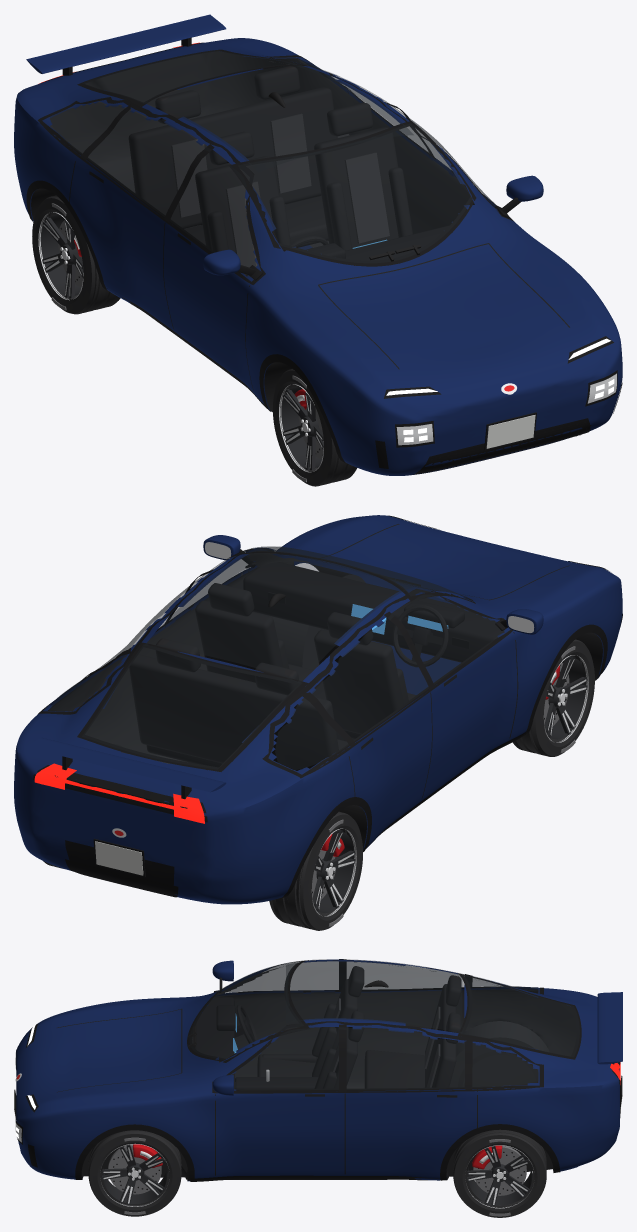
Rendered from macanev.glb.
The picture shows the model from 3 angles, top to bottom: view 1: azimuth 30°, elevation 25°; view 2: azimuth 150°, elevation 25°; view 3: azimuth 270°, elevation 25°; orthographic projection. The views are drawn at different scales.
Visible parts, largest first — view 1: Body, Wheel_RR, Wheel_FR; view 2: Body, Wheel_RR, Wheel_FR; view 3: Body, Wheel_RL, Wheel_FL, Wheel_RR.
Part boxes in pixels (x1,y1,x2,y2): Body: (14,14,622,475); Wheel_RR: (32,195,120,314); Wheel_FR: (272,369,356,486); Body: (14,515,622,904); Wheel_RR: (269,811,362,930); Wheel_FR: (513,639,594,756); Body: (14,959,622,1181); Wheel_RL: (453,1129,546,1217); Wheel_FL: (88,1130,181,1216); Wheel_RR: (458,1051,538,1086).
Bounding box in the file's own units: 2.36 × 1.64 × 4.82.
